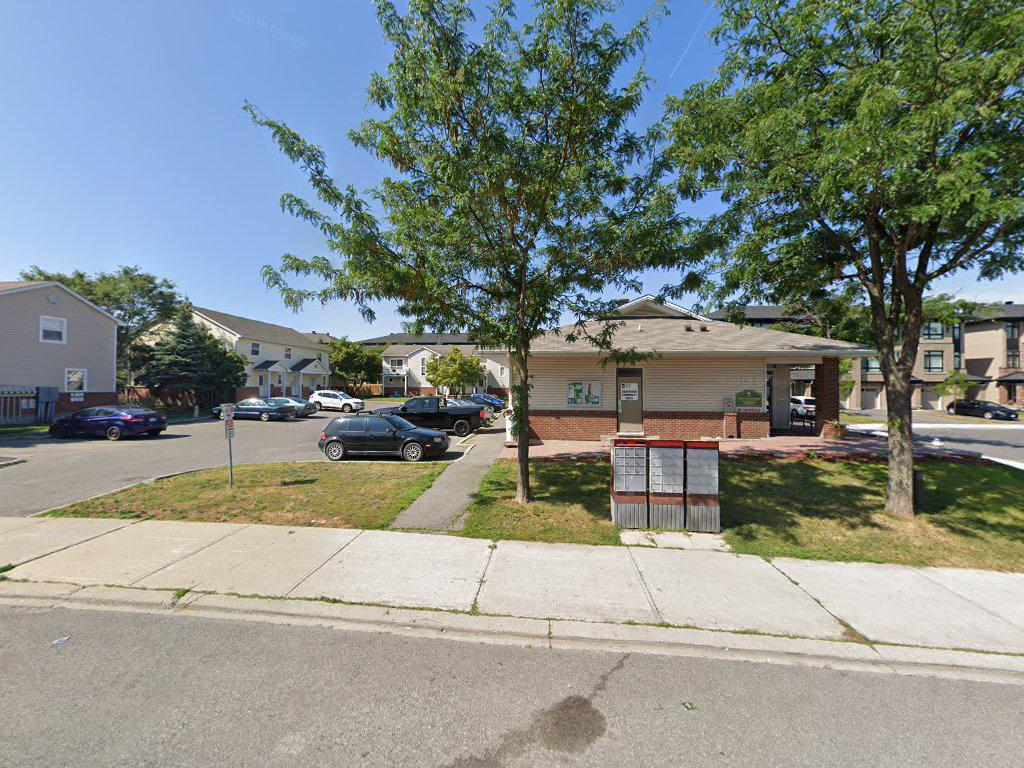trunk: (874, 291, 926, 544), (509, 326, 537, 522)
